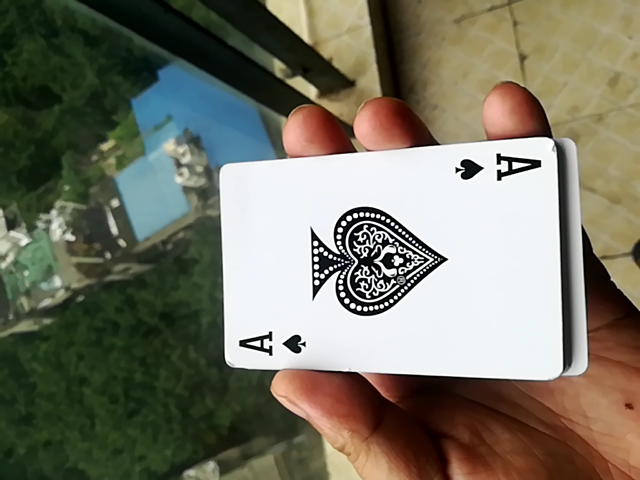ht a: (218, 141, 570, 388)
